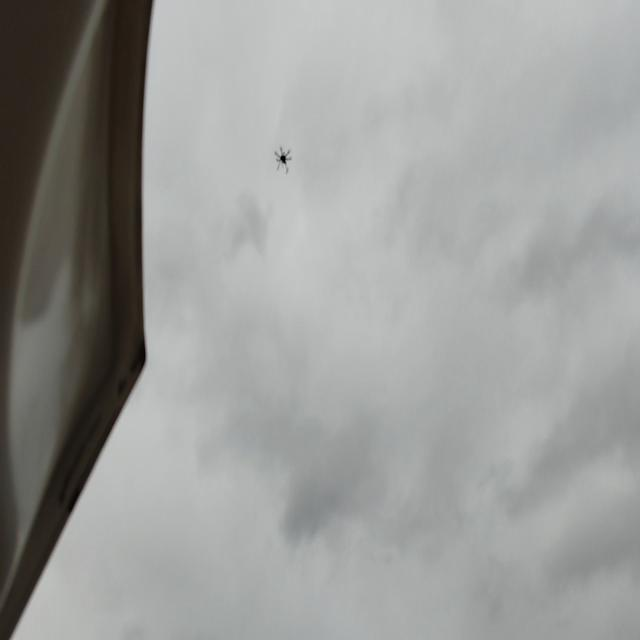drone: (272, 144, 294, 175)
